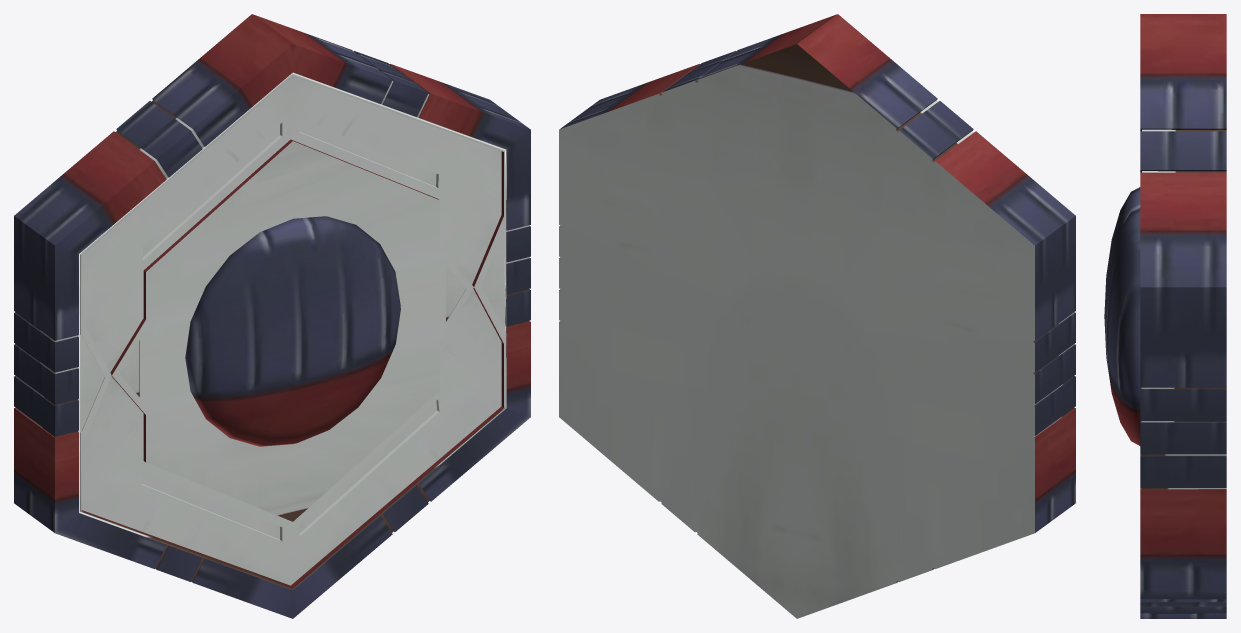
The model's file is pm-signbook-button-01.glb.
3 renders of one model, left to right at view 1: azimuth 30°, elevation 25°; view 2: azimuth 150°, elevation 25°; view 3: azimuth 270°, elevation 25°, orthographic. The views are drawn at different scales.
Parts seen in each view (by area): view 1: SignbookButton01_Art; view 2: SignbookButton01_Art; view 3: SignbookButton01_Art.
Part boxes in pixels (bbox=[...]): SignbookButton01_Art: bbox=[14, 14, 530, 618]; SignbookButton01_Art: bbox=[559, 14, 1075, 618]; SignbookButton01_Art: bbox=[1104, 14, 1226, 618].
Bounding box in the file's own units: 0.683 × 0.7886 × 0.1444.
1 material, 1 textured.
